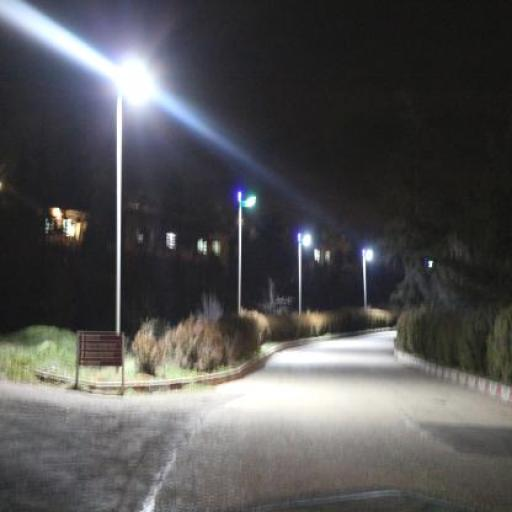street light: (112, 71, 148, 375), (238, 196, 256, 338), (298, 235, 312, 329), (363, 250, 373, 317)
